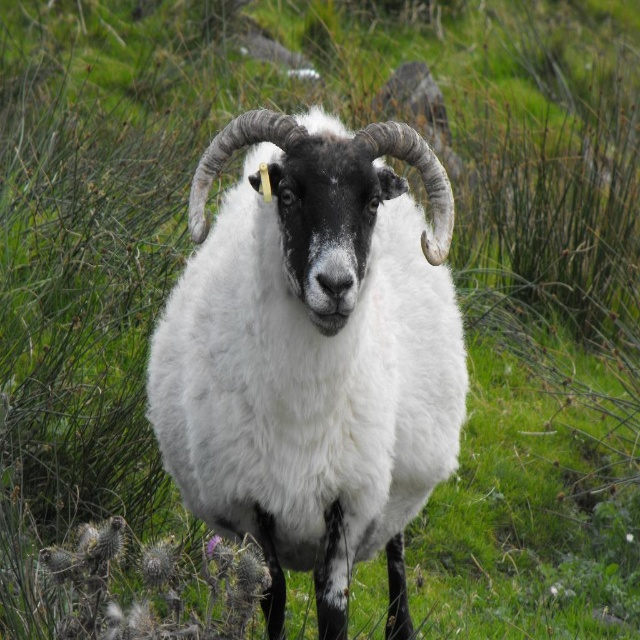Sheep: (144, 94, 475, 640)
